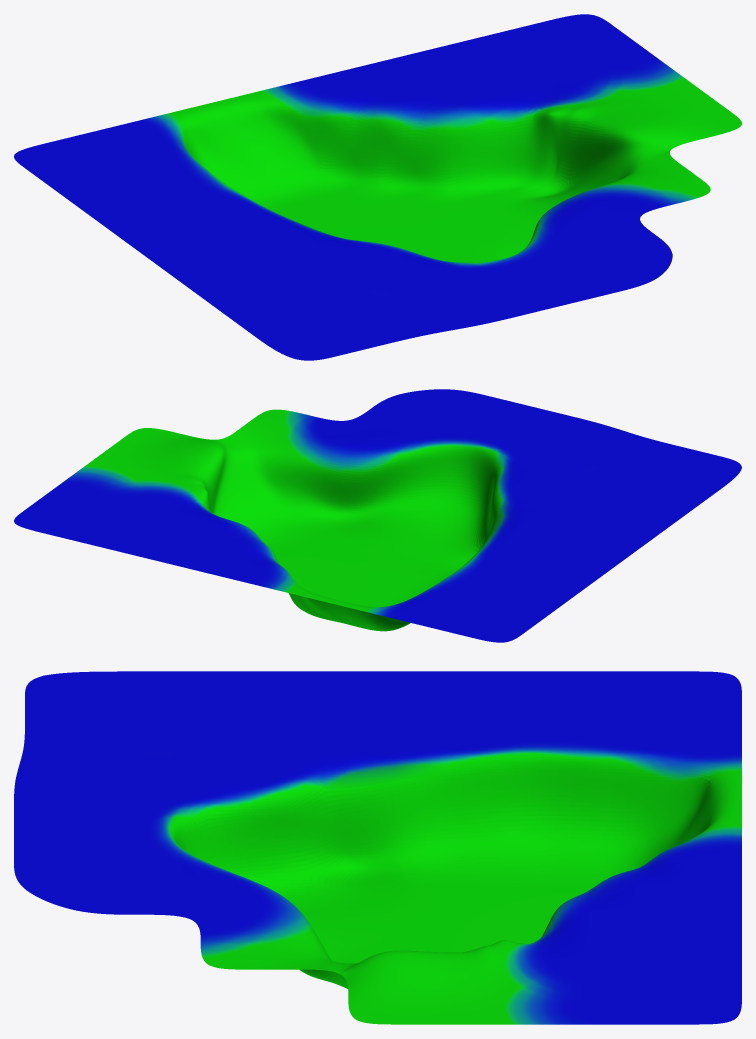
The model's file is level_one_ground_4.fbx.
3 renders of one model, top to bottom at view 1: azimuth 30°, elevation 25°; view 2: azimuth 150°, elevation 25°; view 3: azimuth 270°, elevation 25°, orthographic. The views are drawn at different scales.
Parts seen in each view (by area): view 1: Ground04; view 2: Ground04; view 3: Ground04.
Part boxes in pixels (x1,y1,x2,y2): Ground04: (14,14,741,360); Ground04: (14,389,741,642); Ground04: (14,671,741,1024).
Size of the model in its own units: 6905 by 7923 by 1006.
